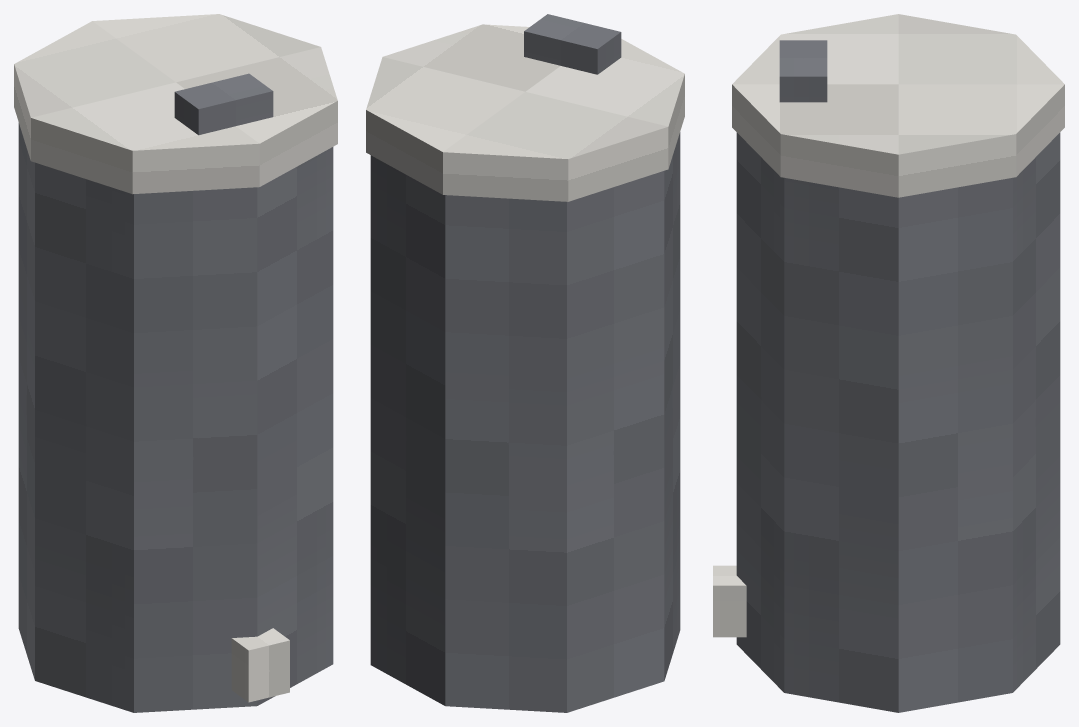
The model's file is pixel-modern-apartments-kitchen-bin-17377d09__29814.glb.
The picture shows the model from 3 angles, left to right: view 1: azimuth 30°, elevation 25°; view 2: azimuth 150°, elevation 25°; view 3: azimuth 270°, elevation 25°; orthographic projection.
Parts seen in each view (by area): view 1: kitchen-bin, lid/white, lid/charcoal; view 2: kitchen-bin, lid/white, lid/charcoal; view 3: kitchen-bin, lid/white, lid/charcoal.
Part boxes in pixels (left/top/right/bottom): kitchen-bin: left=18, top=123, right=333, bottom=712; lid/white: left=14, top=14, right=337, bottom=194; lid/charcoal: left=174, top=73, right=273, bottom=135; kitchen-bin: left=370, top=132, right=680, bottom=712; lid/white: left=366, top=24, right=684, bottom=201; lid/charcoal: left=524, top=14, right=621, bottom=74; kitchen-bin: left=713, top=132, right=1060, bottom=712; lid/white: left=732, top=14, right=1064, bottom=197; lid/charcoal: left=779, top=40, right=827, bottom=102.
Size of the model in its own units: 0.35 by 0.68 by 0.37.
Materials: 2 (2 with a texture image).
